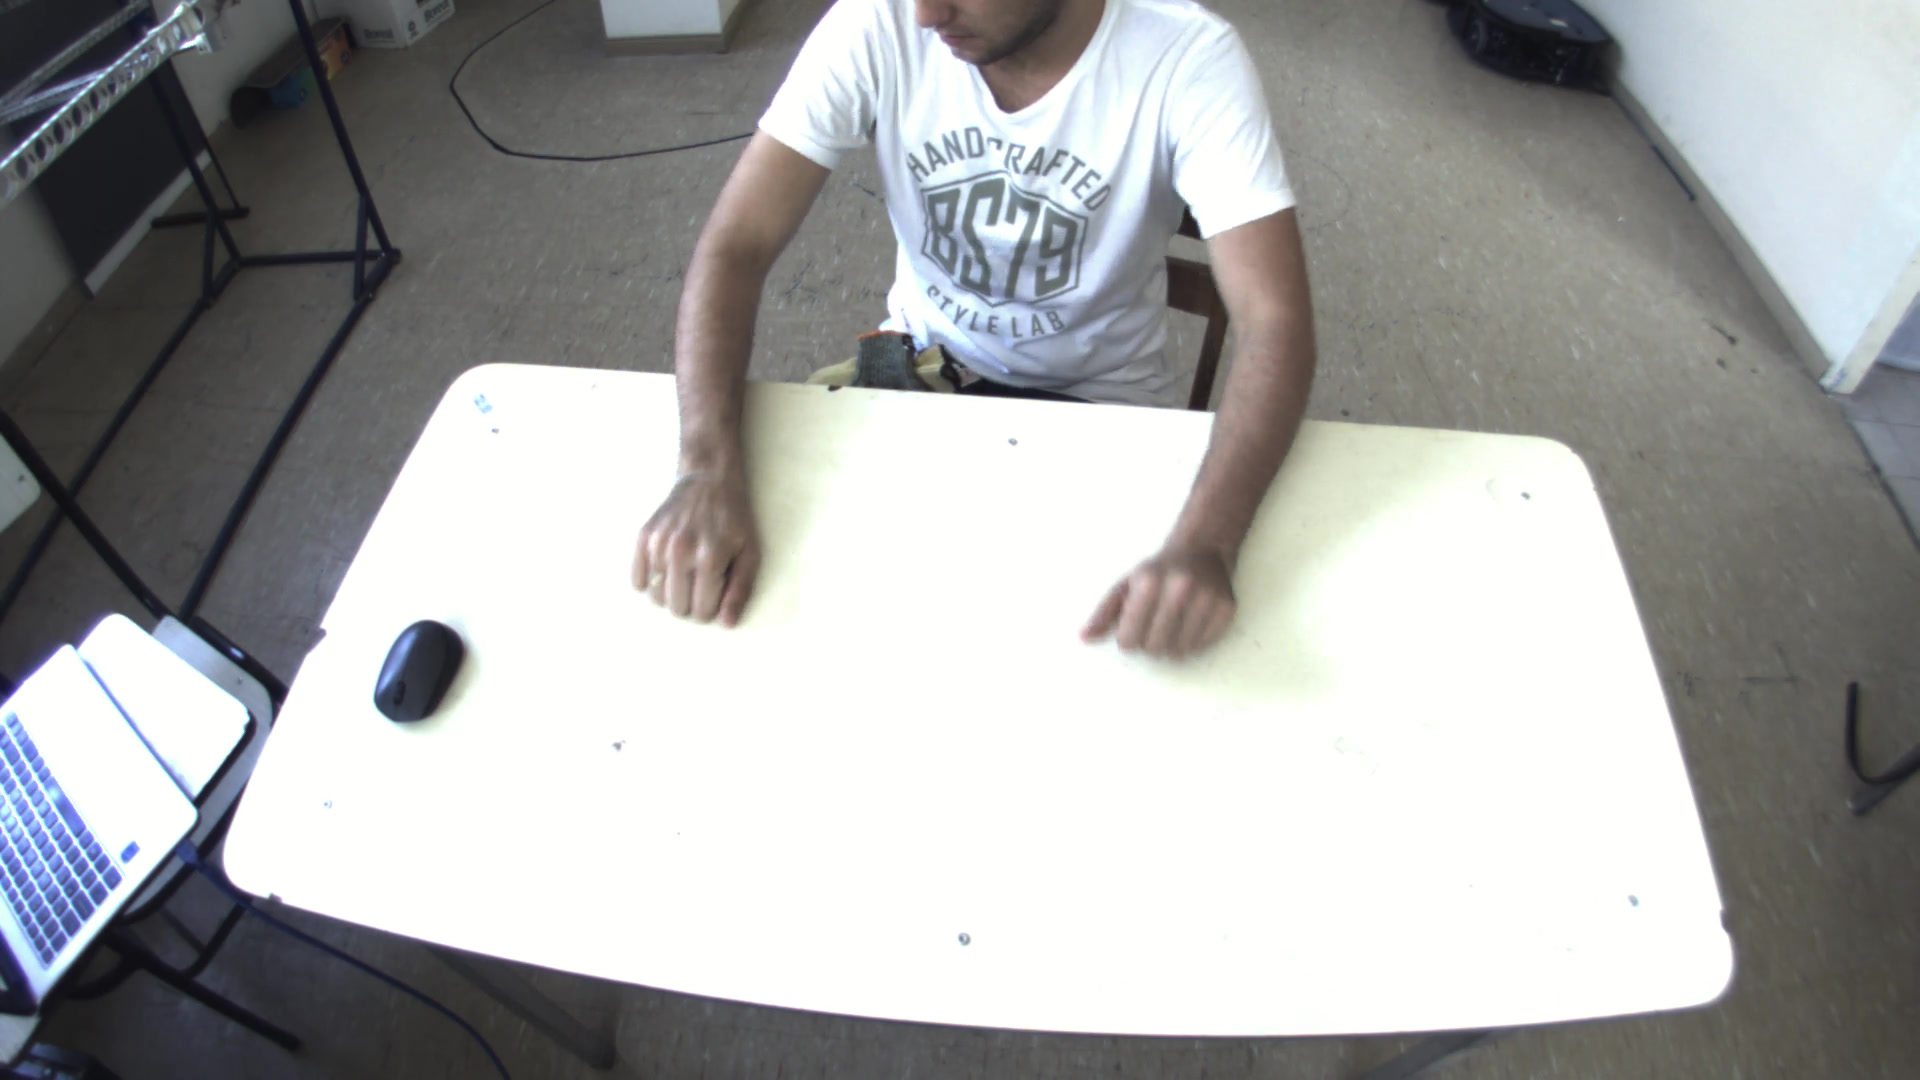hand: (618, 443, 774, 626), (1073, 531, 1261, 659)
